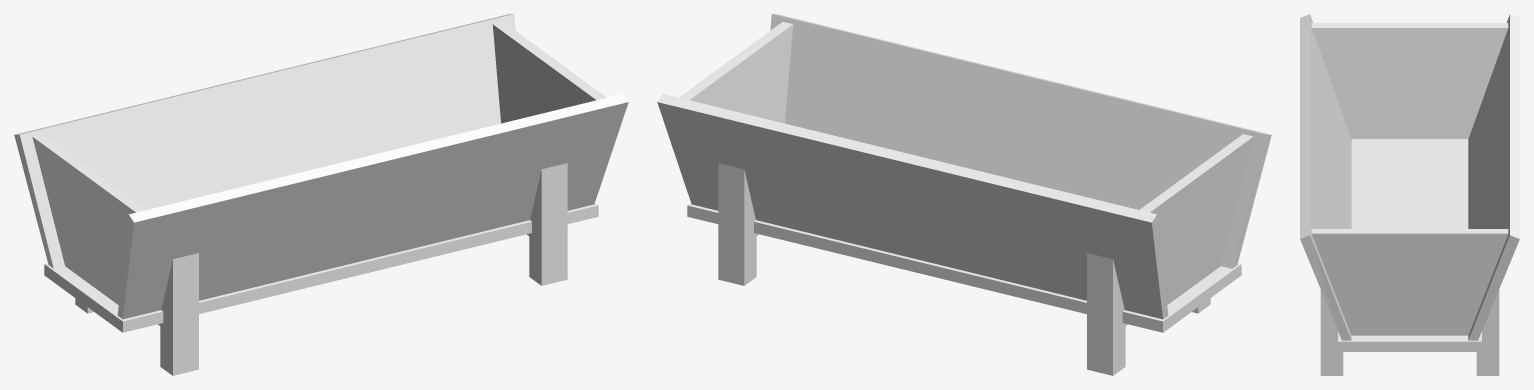
File: Prop_Trough_02.glb
The picture shows the model from 3 angles, left to right: view 1: azimuth 30°, elevation 25°; view 2: azimuth 150°, elevation 25°; view 3: azimuth 270°, elevation 25°; orthographic projection. The views are drawn at different scales.
Visible parts, largest first — view 1: Prop_Trough_02; view 2: Prop_Trough_02; view 3: Prop_Trough_02.
Boxes of the visible parts, box(x1,y1,x2,y2) form: Prop_Trough_02: box(14, 14, 628, 375); Prop_Trough_02: box(657, 14, 1271, 375); Prop_Trough_02: box(1300, 14, 1519, 375).
Bounding box in the file's own units: 1.96 × 0.6741 × 0.8242.
Materials: 1 (1 with a texture image).
